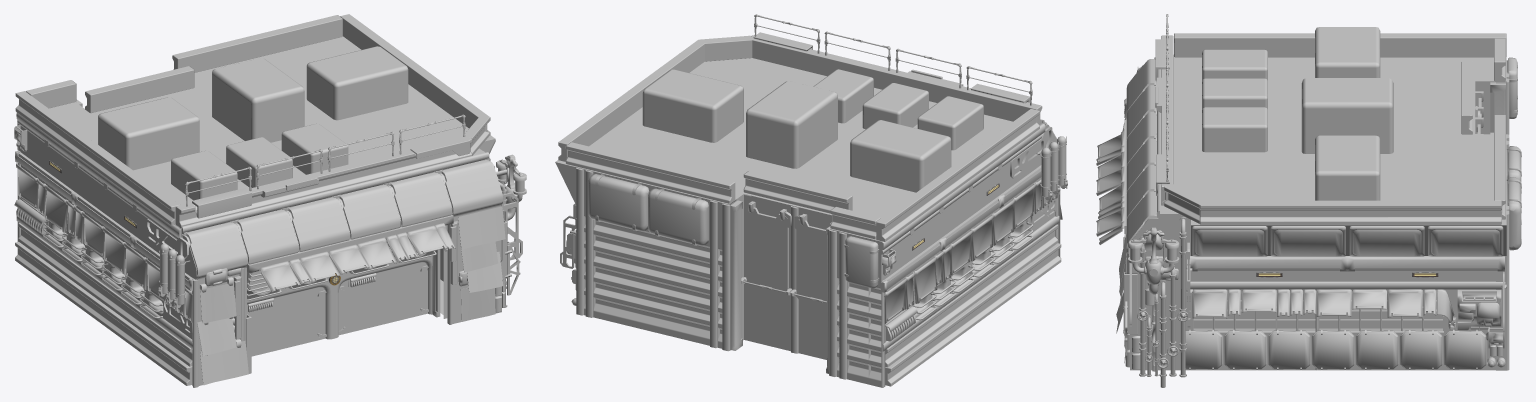
The model's file is Building_01.fbx.
3 views of the same model, side by side, from view 1: azimuth 30°, elevation 25°; view 2: azimuth 150°, elevation 25°; view 3: azimuth 270°, elevation 25° (orthographic). The views are drawn at different scales.
Visible parts, largest first — view 1: Floor.003, Roof_Block.012, Roof_Block.021, Roof_Block.016, Door_01.005, Wall_03.017, Wall_03.023, Wall_03.025, Wall_03.019, Door_01.007, Wall_03.024, Wall_03.018 (+64 smaller); view 2: Floor.003, Wall_09.012, Roof_Block.012, Roof_Block.021, Roof_Block.016, Wall_01.021, Wall_03.017, Wall_03.023, Wall_03.019, Wall_03.025, Wall_09.011, Wall_09.010 (+50 smaller); view 3: Floor.003, Wall_03.018, Wall_03.023, Roof_Block.012, Roof_Block.021, Wall_08_Window.007, Wall_08_Window.006, Roof_Block.016, Roof_Block.013, Panel_02.021, Panel_02.027, Panel_02.019 (+52 smaller).
Boxes of the visible parts, <box> form: Floor.003: <box>49,40,484,237</box>; Roof_Block.012: <box>212,58,304,142</box>; Roof_Block.021: <box>306,46,408,120</box>; Roof_Block.016: <box>98,97,199,170</box>; Door_01.005: <box>338,262,427,335</box>; Wall_03.017: <box>175,136,472,228</box>; Wall_03.023: <box>15,91,180,224</box>; Wall_03.025: <box>15,241,192,385</box>; Wall_03.019: <box>172,15,342,72</box>; Door_01.007: <box>247,287,325,356</box>; Wall_03.024: <box>18,223,192,366</box>; Wall_03.018: <box>340,14,490,135</box>; Floor.003: <box>577,58,1042,241</box>; Wall_09.012: <box>584,209,680,337</box>; Roof_Block.012: <box>746,81,837,168</box>; Roof_Block.021: <box>642,69,743,142</box>; Roof_Block.016: <box>850,120,951,192</box>; Wall_01.021: <box>744,195,831,359</box>; Wall_03.017: <box>749,35,1042,125</box>; Wall_03.023: <box>876,109,1039,241</box>; Wall_03.019: <box>565,142,735,203</box>; Wall_03.025: <box>885,243,1061,386</box>; Wall_09.011: <box>678,239,722,348</box>; Wall_09.010: <box>837,270,881,387</box>; Floor.003: <box>1160,54,1506,213</box>; Wall_03.018: <box>1199,200,1501,224</box>; Wall_03.023: <box>1174,33,1506,57</box>; Roof_Block.012: <box>1301,78,1393,153</box>; Roof_Block.021: <box>1315,135,1380,200</box>; Wall_08_Window.007: <box>1318,271,1443,370</box>; Wall_08_Window.006: <box>1192,271,1318,370</box>; Roof_Block.016: <box>1315,27,1380,77</box>; Roof_Block.013: <box>1202,107,1267,152</box>; Panel_02.021: <box>1428,226,1503,256</box>; Panel_02.027: <box>1192,226,1267,256</box>; Panel_02.019: <box>1270,226,1345,256</box>.
Size of the model in its own units: 13.71 by 7.69 by 13.55.
